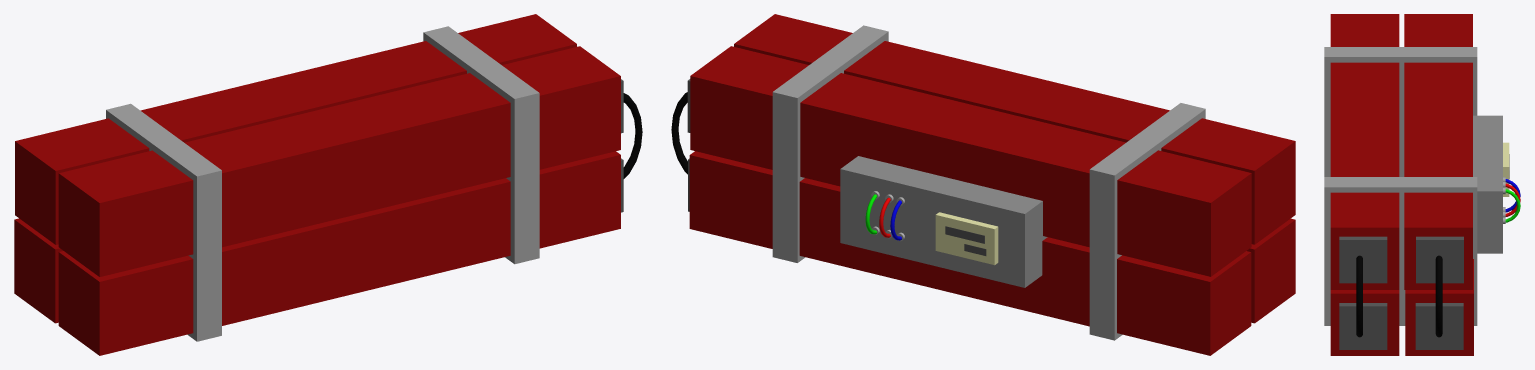
Rendered from Bomb.fbx.
The picture shows the model from 3 angles, left to right: view 1: azimuth 30°, elevation 25°; view 2: azimuth 150°, elevation 25°; view 3: azimuth 270°, elevation 25°; orthographic projection. The views are drawn at different scales.
Visible parts, largest first — view 1: pasted__pasted__pCube2, pasted__pCube2, pasted__pasted__pasted__pCube2, pCube4, pasted__pCube4, pCube2, pasted__pasted__pTorus1; view 2: pasted__pasted__pasted__pCube2, pCube2, pasted__pasted__pCube2, pCube3, pasted__pCube4, pCube4, pasted__pCube2, pasted__pCube3, pasted__pTorus1; view 3: pasted__pasted__pCube2, pasted__pasted__pasted__pCube2, pCube4, pasted__pCube4, pCube3, pasted__pCube2, pCube2, pasted__pasted__pCube5, pasted__pasted__pasted__pCube5, pasted__pCube5, pCube5, pasted__pTorus1 (+3 smaller).
Boxes of the visible parts, x1,y1,x2,y2 form: pasted__pasted__pCube2: (58, 46, 620, 276); pasted__pCube2: (58, 151, 620, 355); pasted__pasted__pasted__pCube2: (15, 14, 576, 244); pCube4: (423, 26, 539, 264); pasted__pCube4: (106, 103, 221, 341); pCube2: (14, 218, 63, 323); pasted__pasted__pTorus1: (623, 93, 642, 178); pasted__pasted__pasted__pCube2: (690, 46, 1251, 276); pCube2: (689, 151, 1251, 355); pasted__pasted__pCube2: (734, 14, 1295, 244); pCube3: (840, 156, 1047, 287); pasted__pCube4: (1089, 103, 1205, 340); pCube4: (772, 25, 888, 262); pasted__pCube2: (1247, 218, 1295, 323); pasted__pCube3: (935, 212, 998, 265); pasted__pTorus1: (671, 92, 687, 174); pasted__pasted__pCube2: (1330, 14, 1399, 289); pasted__pasted__pasted__pCube2: (1404, 14, 1472, 289); pCube4: (1324, 177, 1477, 325); pasted__pCube4: (1324, 47, 1477, 176); pCube3: (1473, 115, 1502, 253); pasted__pCube2: (1330, 290, 1399, 355); pCube2: (1405, 259, 1473, 355); pasted__pasted__pCube5: (1339, 236, 1387, 283); pasted__pasted__pasted__pCube5: (1416, 236, 1463, 283); pasted__pCube5: (1339, 303, 1387, 349); pCube5: (1415, 303, 1463, 349); pasted__pTorus1: (1435, 255, 1442, 337).
Bounding box in the file's own units: 7.91 × 2.23 × 2.86.
